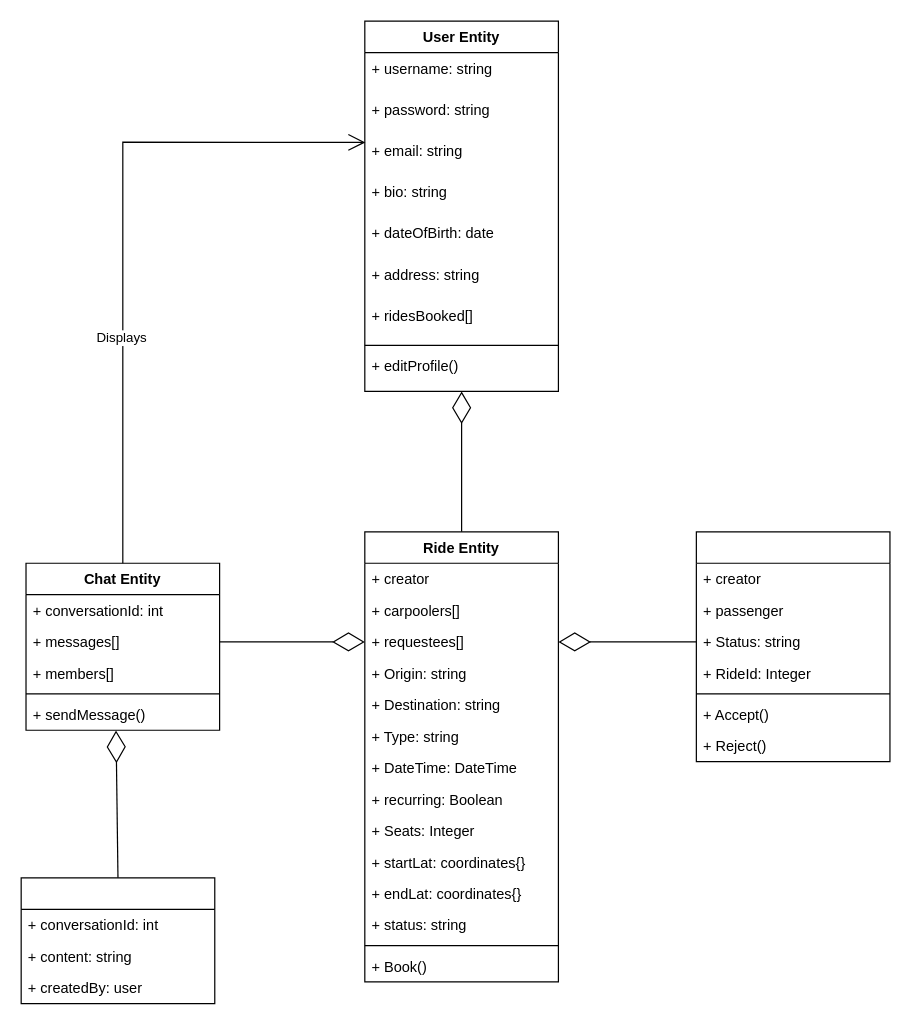
Some shapes in this 911 by 1029 pixel diagram are drawn without their labels. The shapes that lost their labels are listed below. From the top down, each one's box as (x1, y1, x2, y2) in pixels, then its label:
(695, 531, 890, 762): Ride Request
(20, 877, 215, 1004): Chat Message
